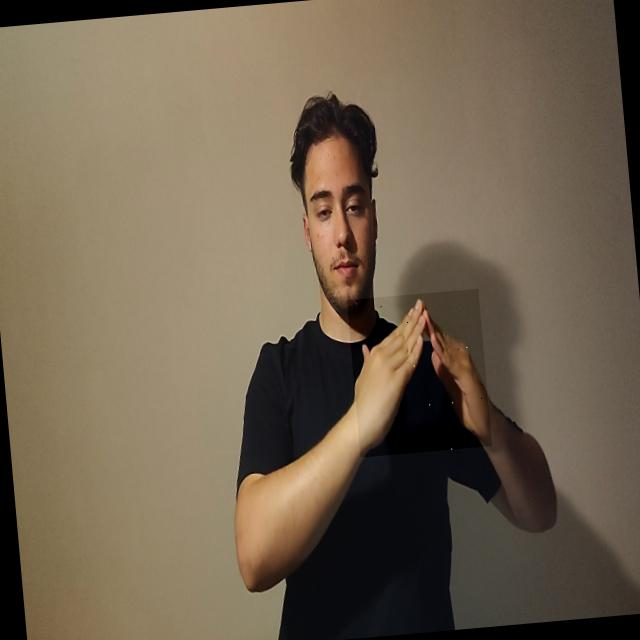house: (347, 288, 492, 458)
